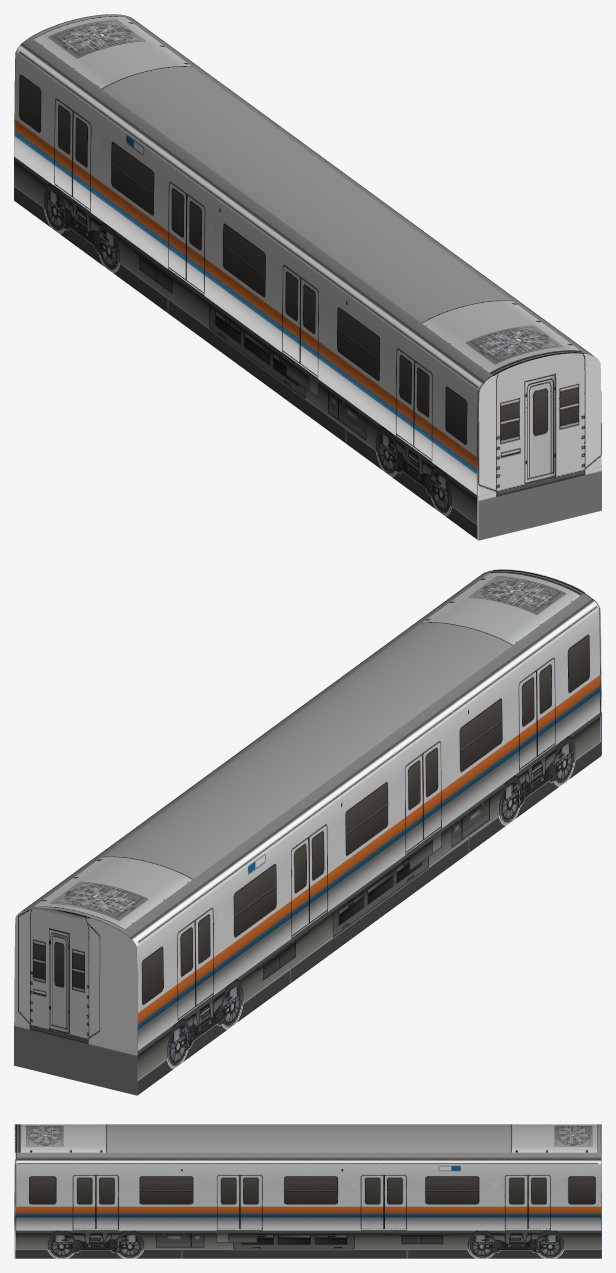
Rendered from car4.glb.
3 renders of one model, top to bottom at view 1: azimuth 30°, elevation 25°; view 2: azimuth 150°, elevation 25°; view 3: azimuth 270°, elevation 25°, orthographic. The views are drawn at different scales.
Parts seen in each view (by area): view 1: kintetsu-7020-car4; view 2: kintetsu-7020-car4; view 3: kintetsu-7020-car4.
Boxes of the visible parts, x1,y1,x2,y2 form: kintetsu-7020-car4: (14,14,601,540); kintetsu-7020-car4: (14,569,601,1095); kintetsu-7020-car4: (14,1124,601,1258).
Bounding box in the file's own units: 2.9 × 3.74 × 18.93.
9 materials, 8 textured.
